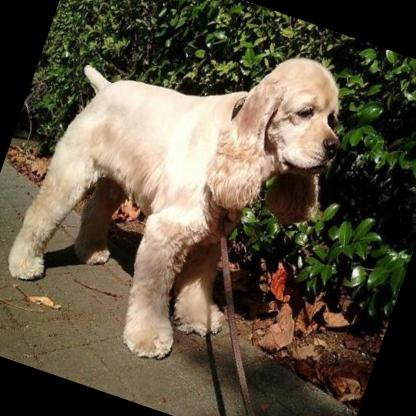cocker_spaniel: (0, 0, 366, 397)
